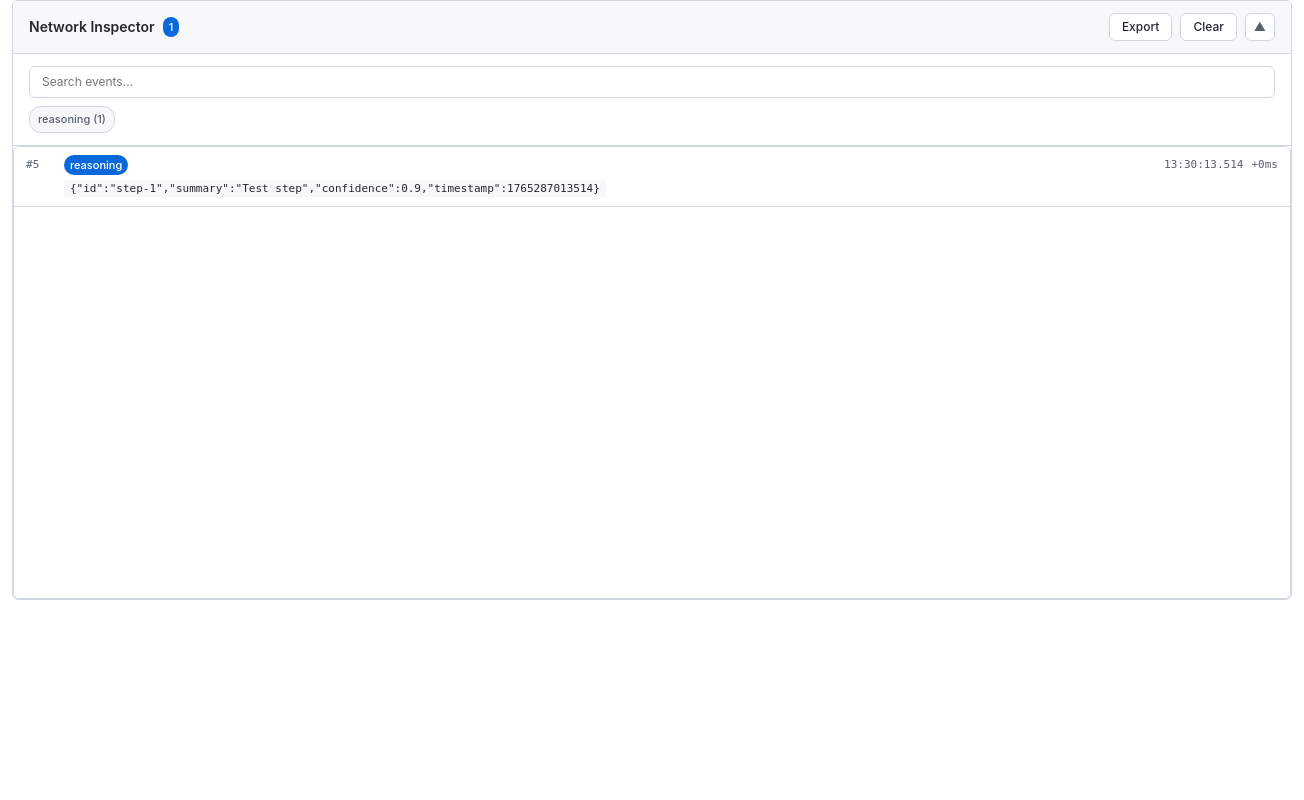
Test: NetworkInspector › event selection and details › should display event metadata in details panel
Step 1. Click the 5th button → (96,165), box top-left (14, 146), bottom-right (1290, 206)
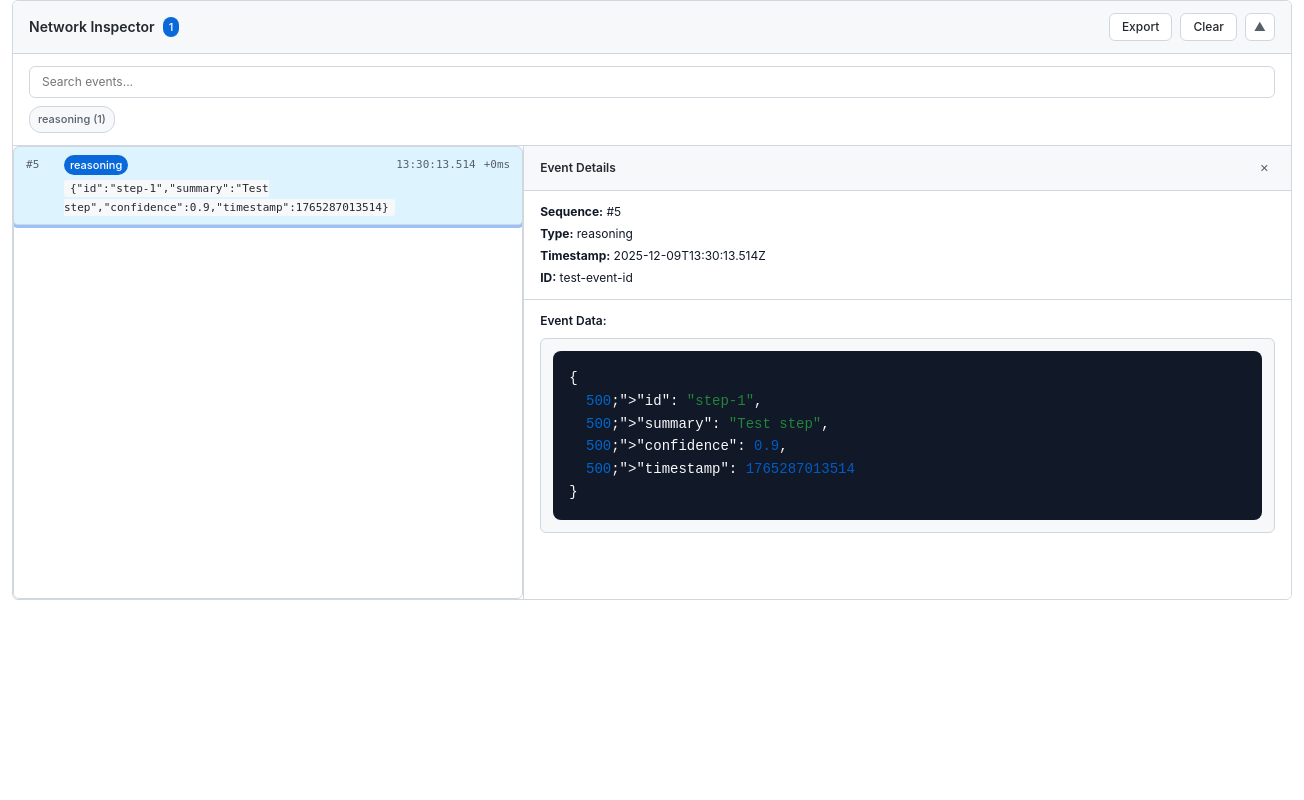
Check: the text "Event Details" is shown, box top-left (540, 159), bottom-right (616, 177)
Check: the text "Sequence:" is shown, box top-left (540, 204), bottom-right (603, 219)
Check: the text "Type:" is shown, box top-left (540, 226), bottom-right (573, 241)
